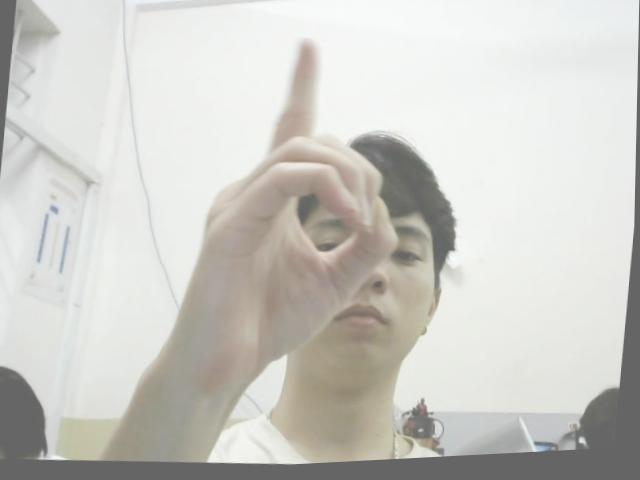D: (171, 26, 418, 394)
